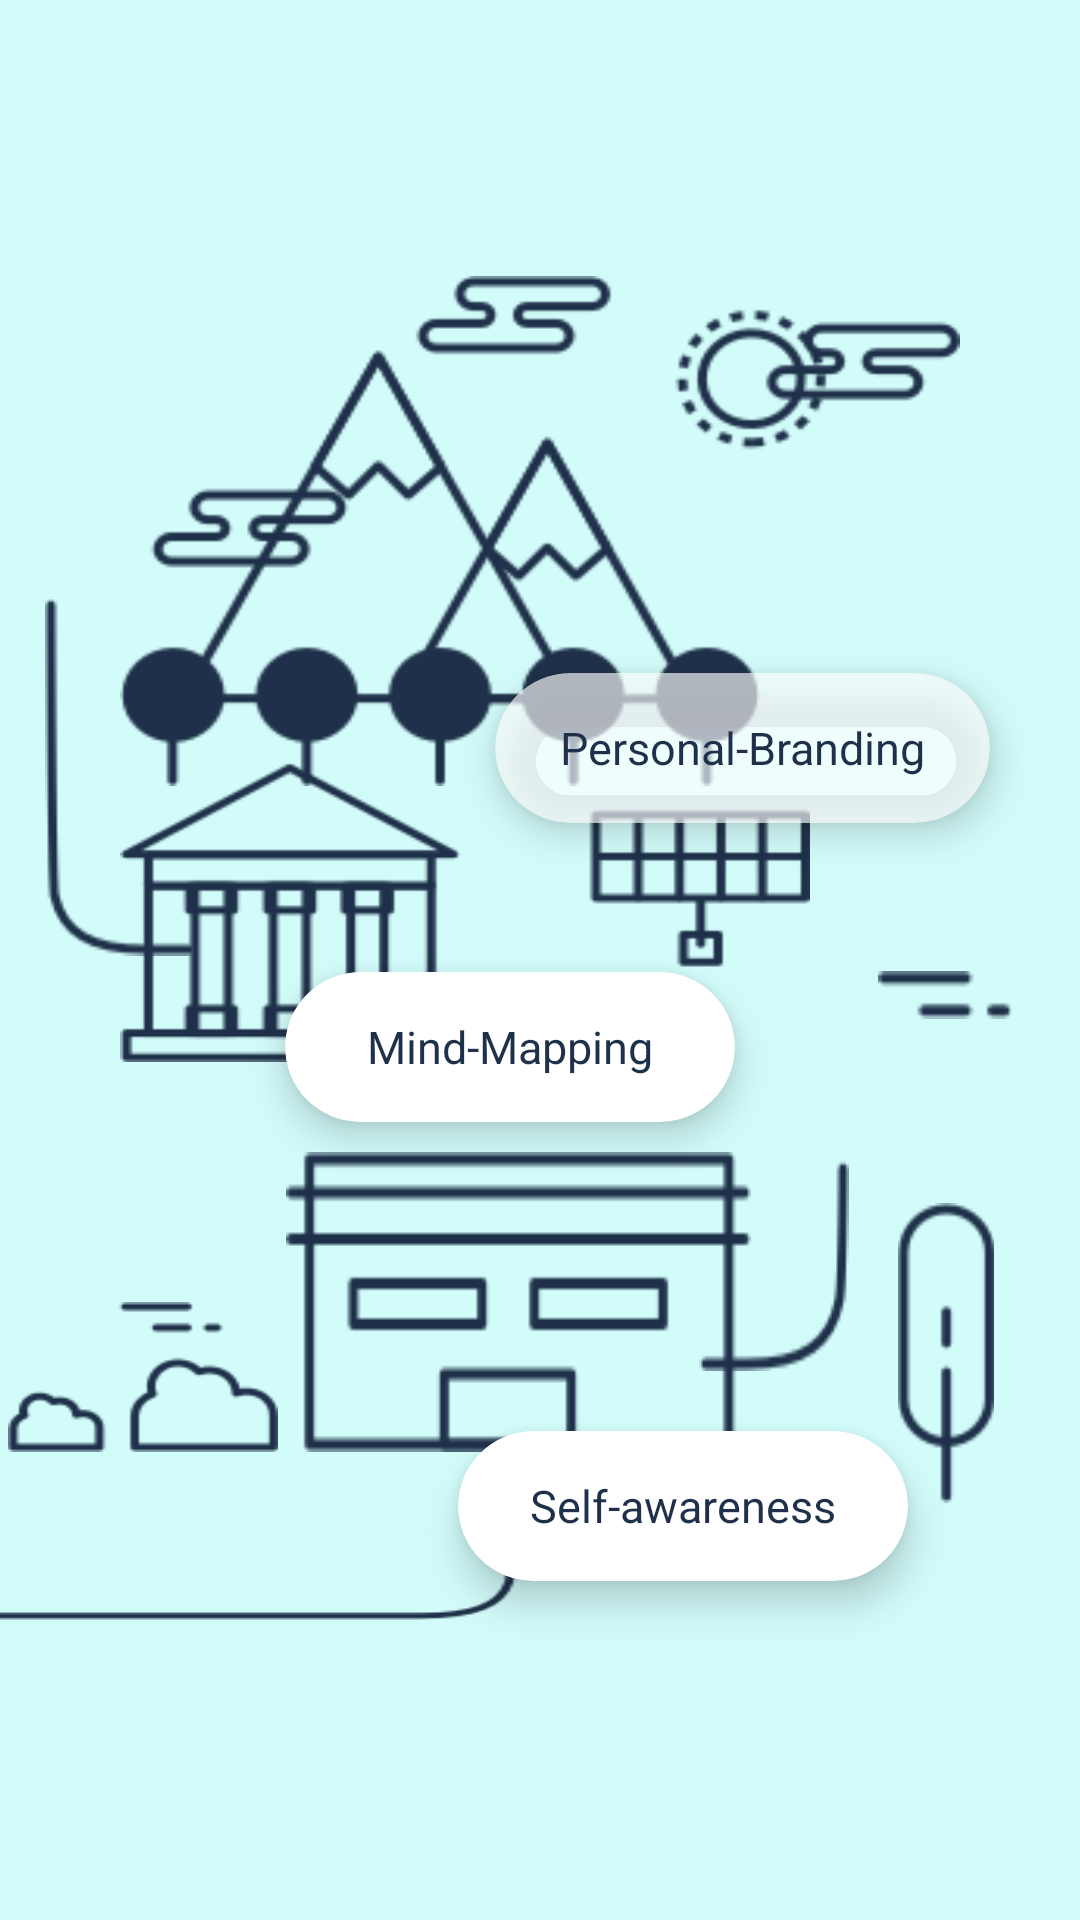

Screen size 1080w x 1920h. Icon name, then its box in pixels as (x1, y1, x2, y2):
lines: (878, 971, 1011, 1019)
tree: (898, 1203, 994, 1503)
